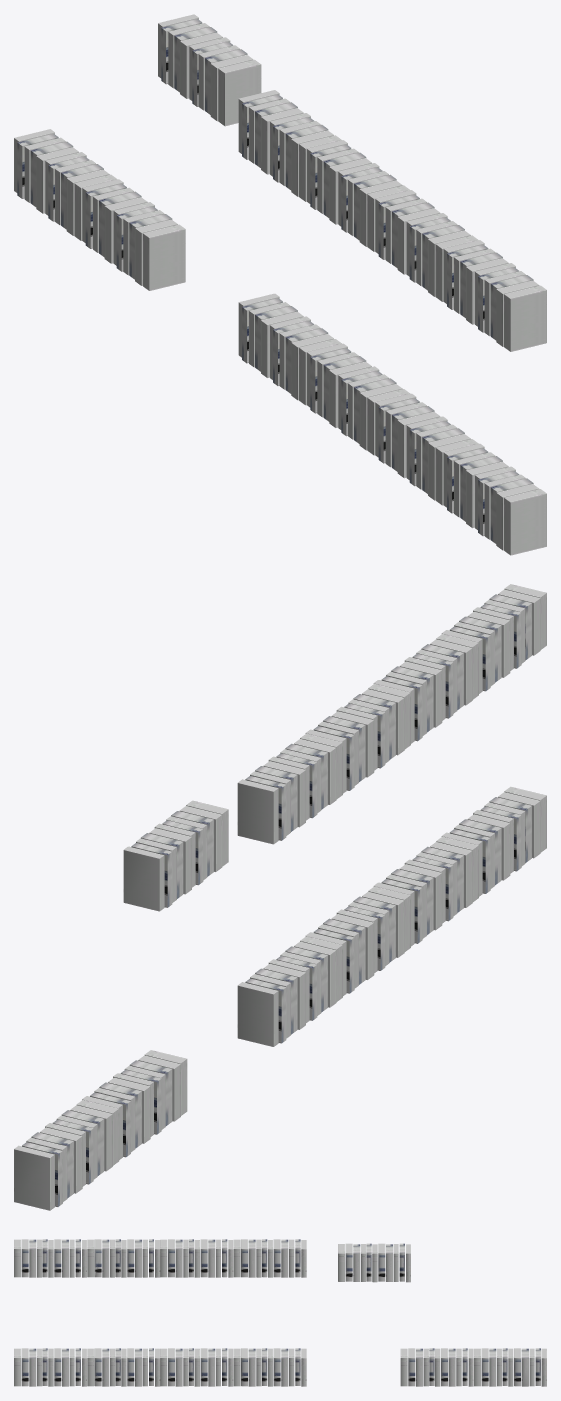
File: Grouped.FBX
3 renders of one model, top to bottom at view 1: azimuth 30°, elevation 25°; view 2: azimuth 150°, elevation 25°; view 3: azimuth 270°, elevation 25°, orthographic. The views are drawn at different scales.
Visible parts, largest first — view 1: Grouped; view 2: Grouped; view 3: Grouped.
Boxes of the visible parts, <box> form: Grouped: <box>14,14,546,555</box>; Grouped: <box>14,584,546,1210</box>; Grouped: <box>14,1239,546,1386</box>.
Size of the model in its own units: 0.3295 by 1.45 by 5.1.
